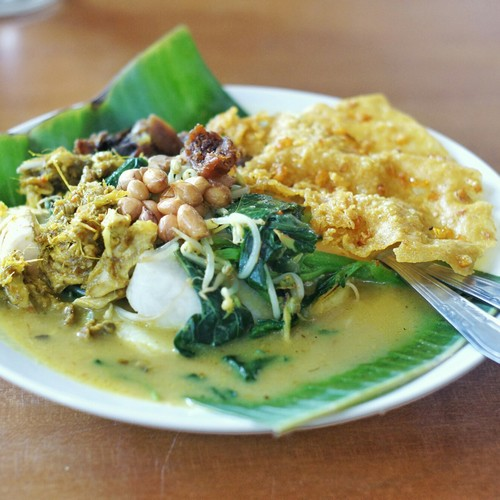tipat blayag: (16, 90, 482, 350)
